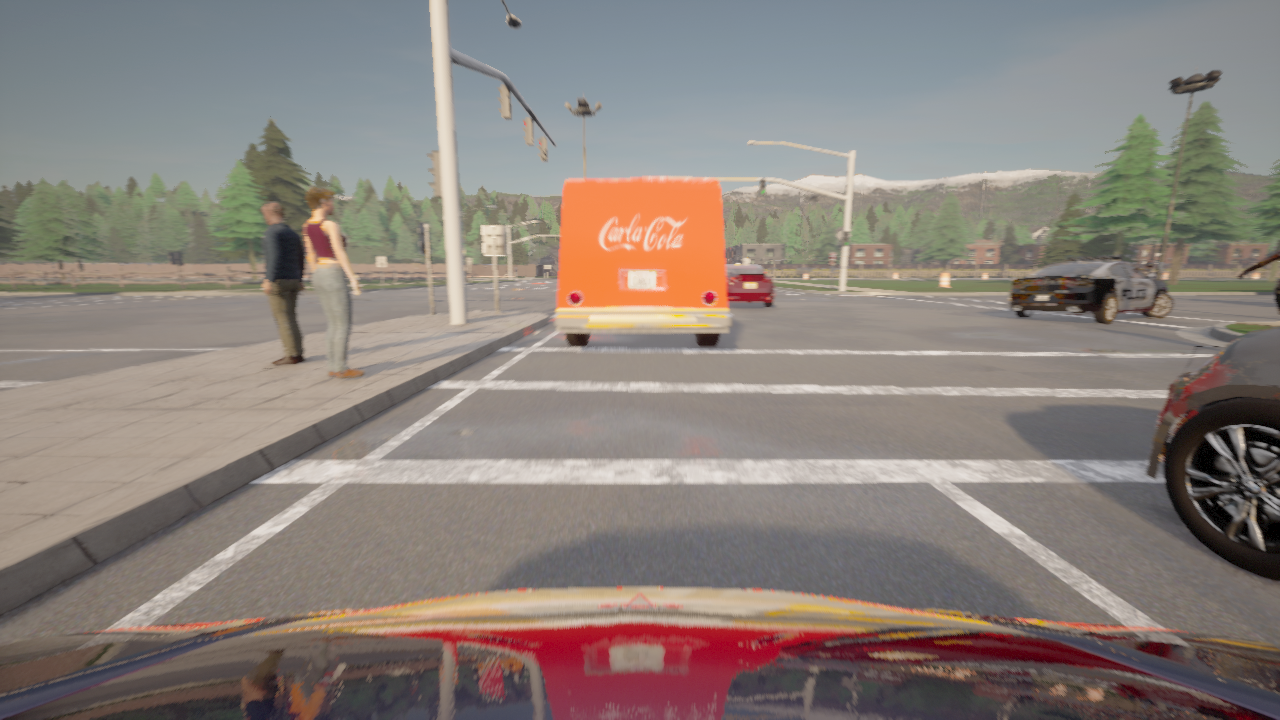cyclist: (0, 588, 1279, 719), (1146, 327, 1279, 581), (555, 179, 732, 346), (1009, 254, 1173, 323), (725, 265, 774, 307)
pedestrian: (304, 187, 364, 378), (262, 200, 305, 365), (1239, 250, 1279, 313)
